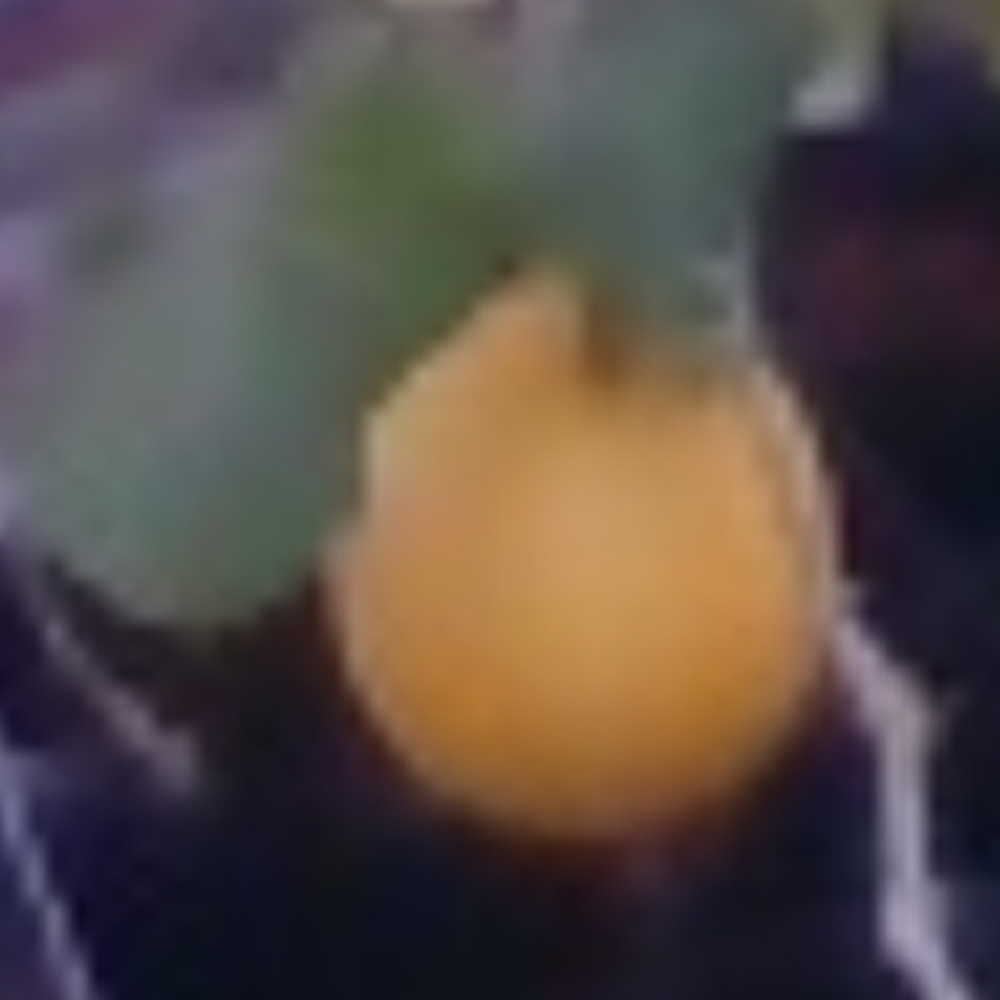melon: (312, 251, 841, 846)
